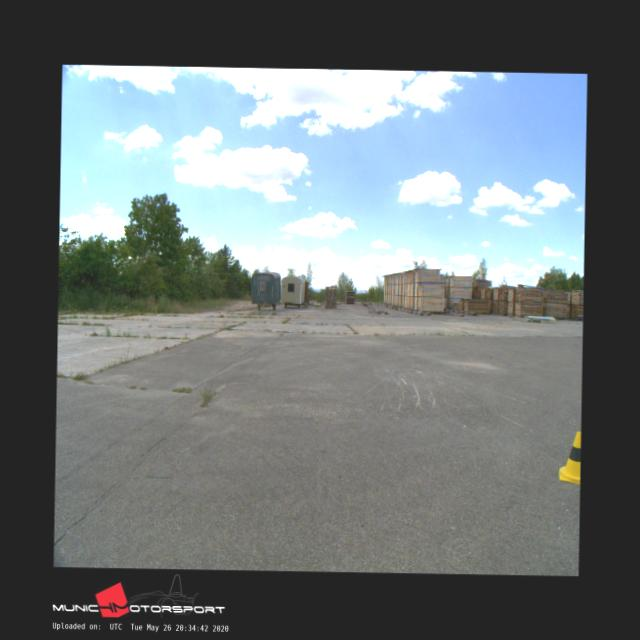yellow_cone: (558, 431, 580, 484)
